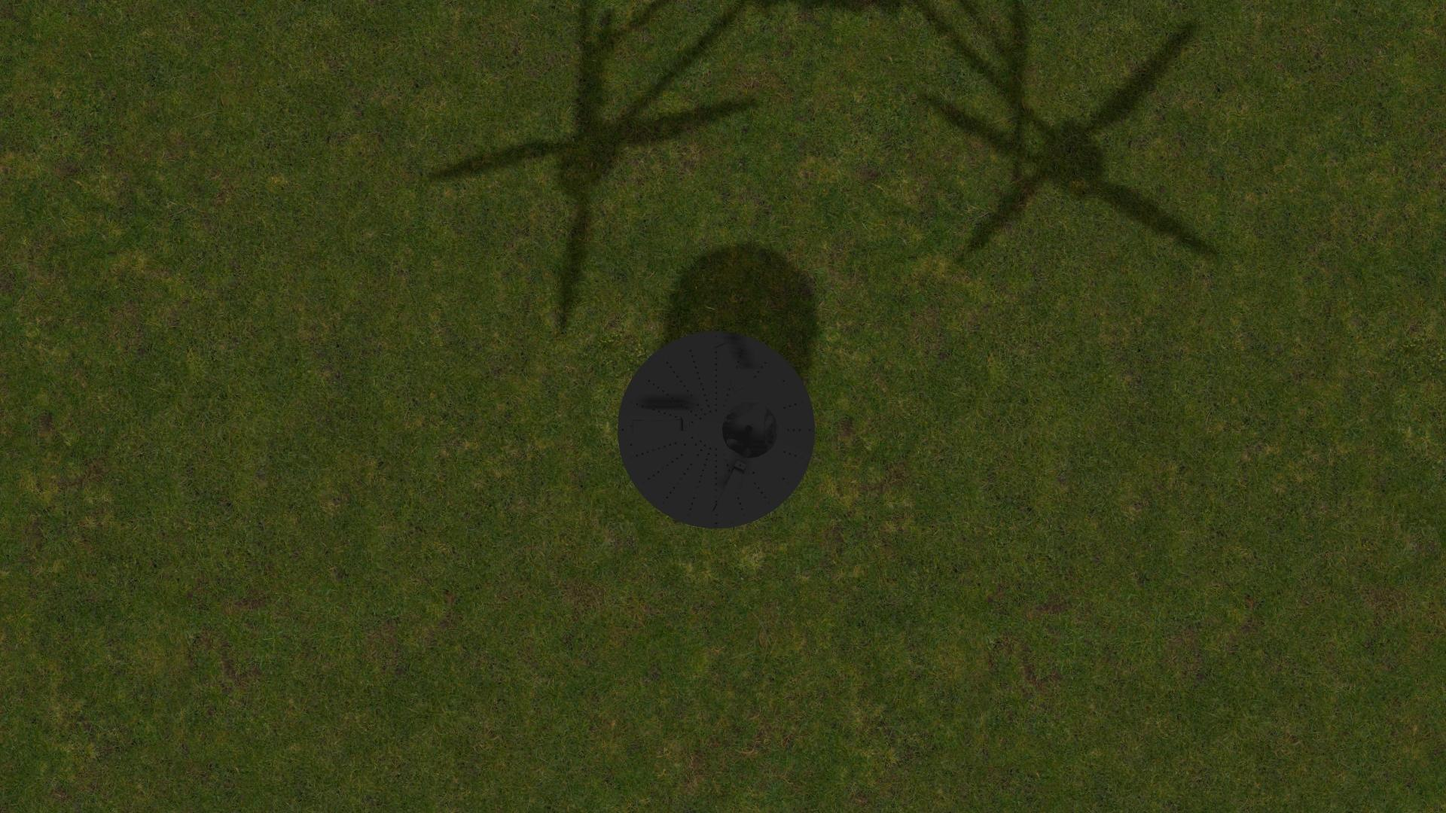alca: (710, 460, 747, 520), (712, 338, 747, 397), (628, 419, 690, 433)
armadilha: (618, 331, 815, 529)
